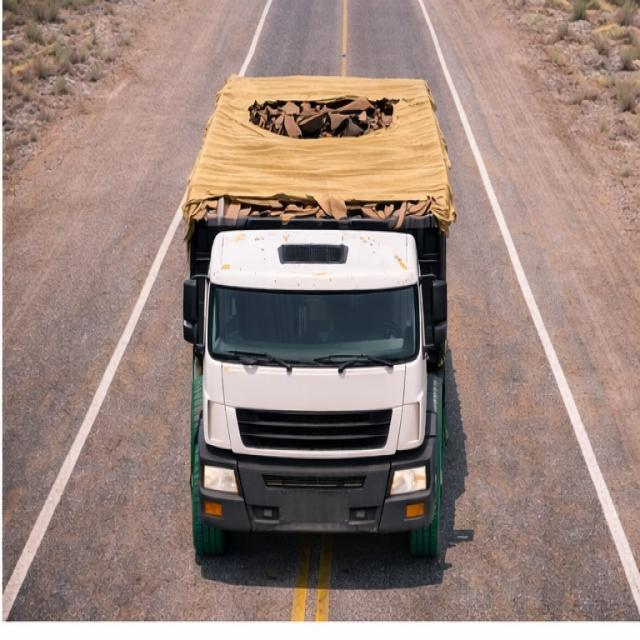Box: (188, 74, 462, 226)
Truck: (174, 39, 471, 570)
